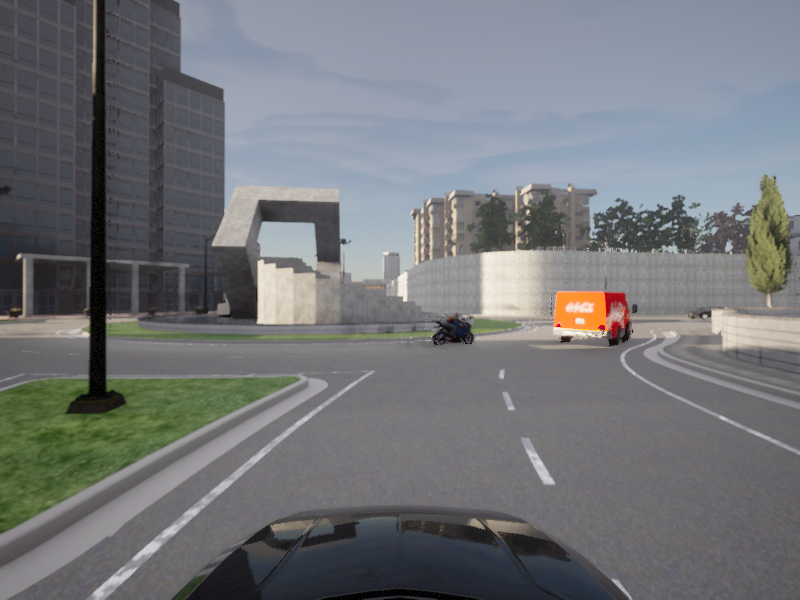vehicle: (549, 290, 640, 349), (428, 312, 479, 348)
